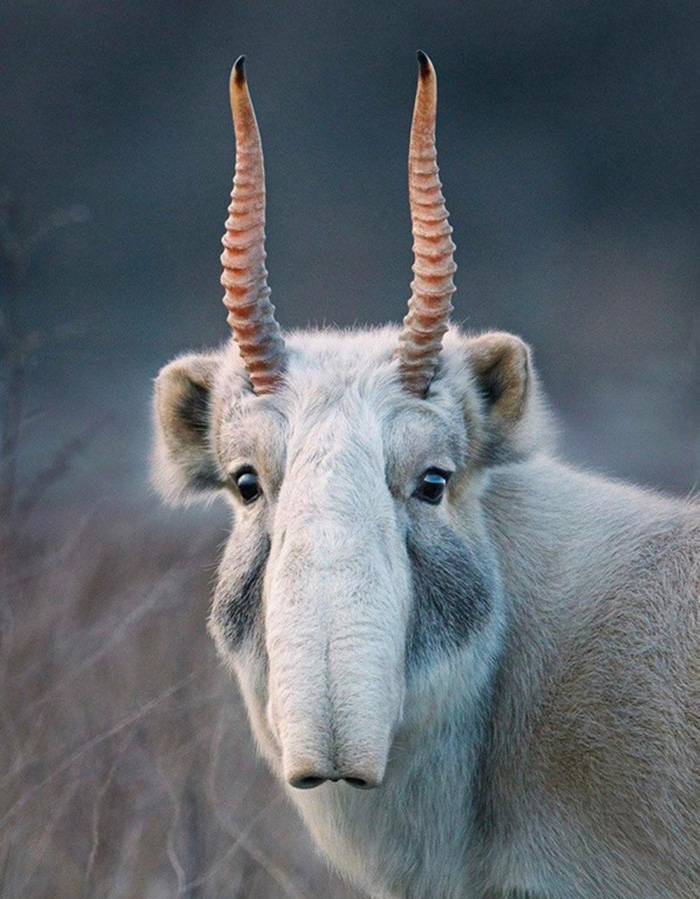saiga: (155, 45, 700, 898)
